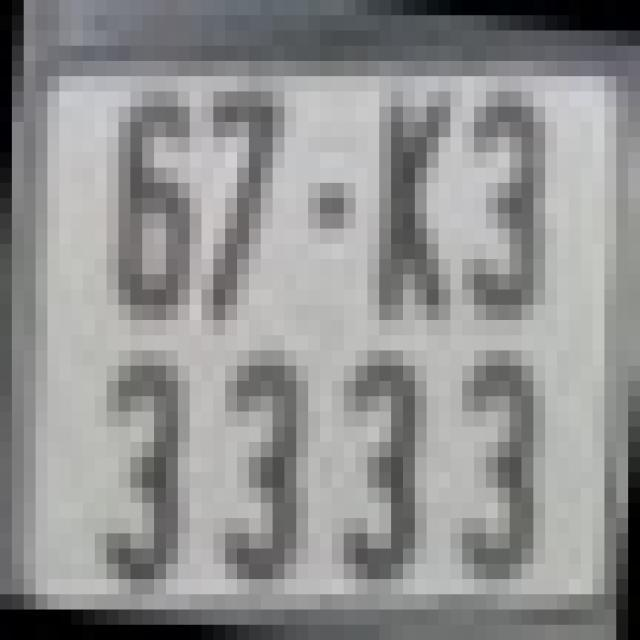3: (344, 350, 426, 580), (106, 366, 190, 580), (225, 366, 308, 580), (462, 350, 534, 580), (474, 91, 545, 320)
6: (119, 91, 190, 320)
7: (202, 91, 284, 320)
K: (380, 91, 450, 320)
